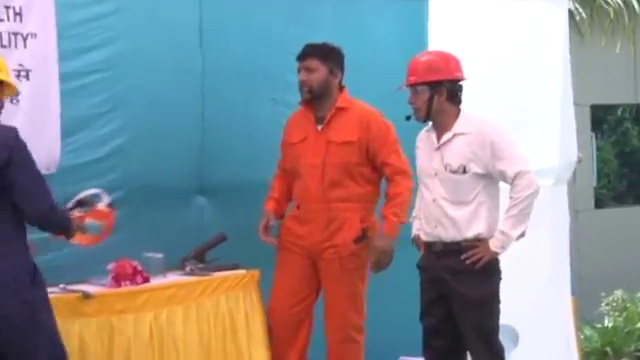helmet: (397, 50, 469, 89), (1, 55, 22, 102)
helmet_off: (296, 44, 346, 108)
helmet_on: (397, 50, 471, 133), (1, 53, 24, 128)
person: (258, 44, 415, 360), (396, 48, 543, 360), (1, 55, 93, 357)
